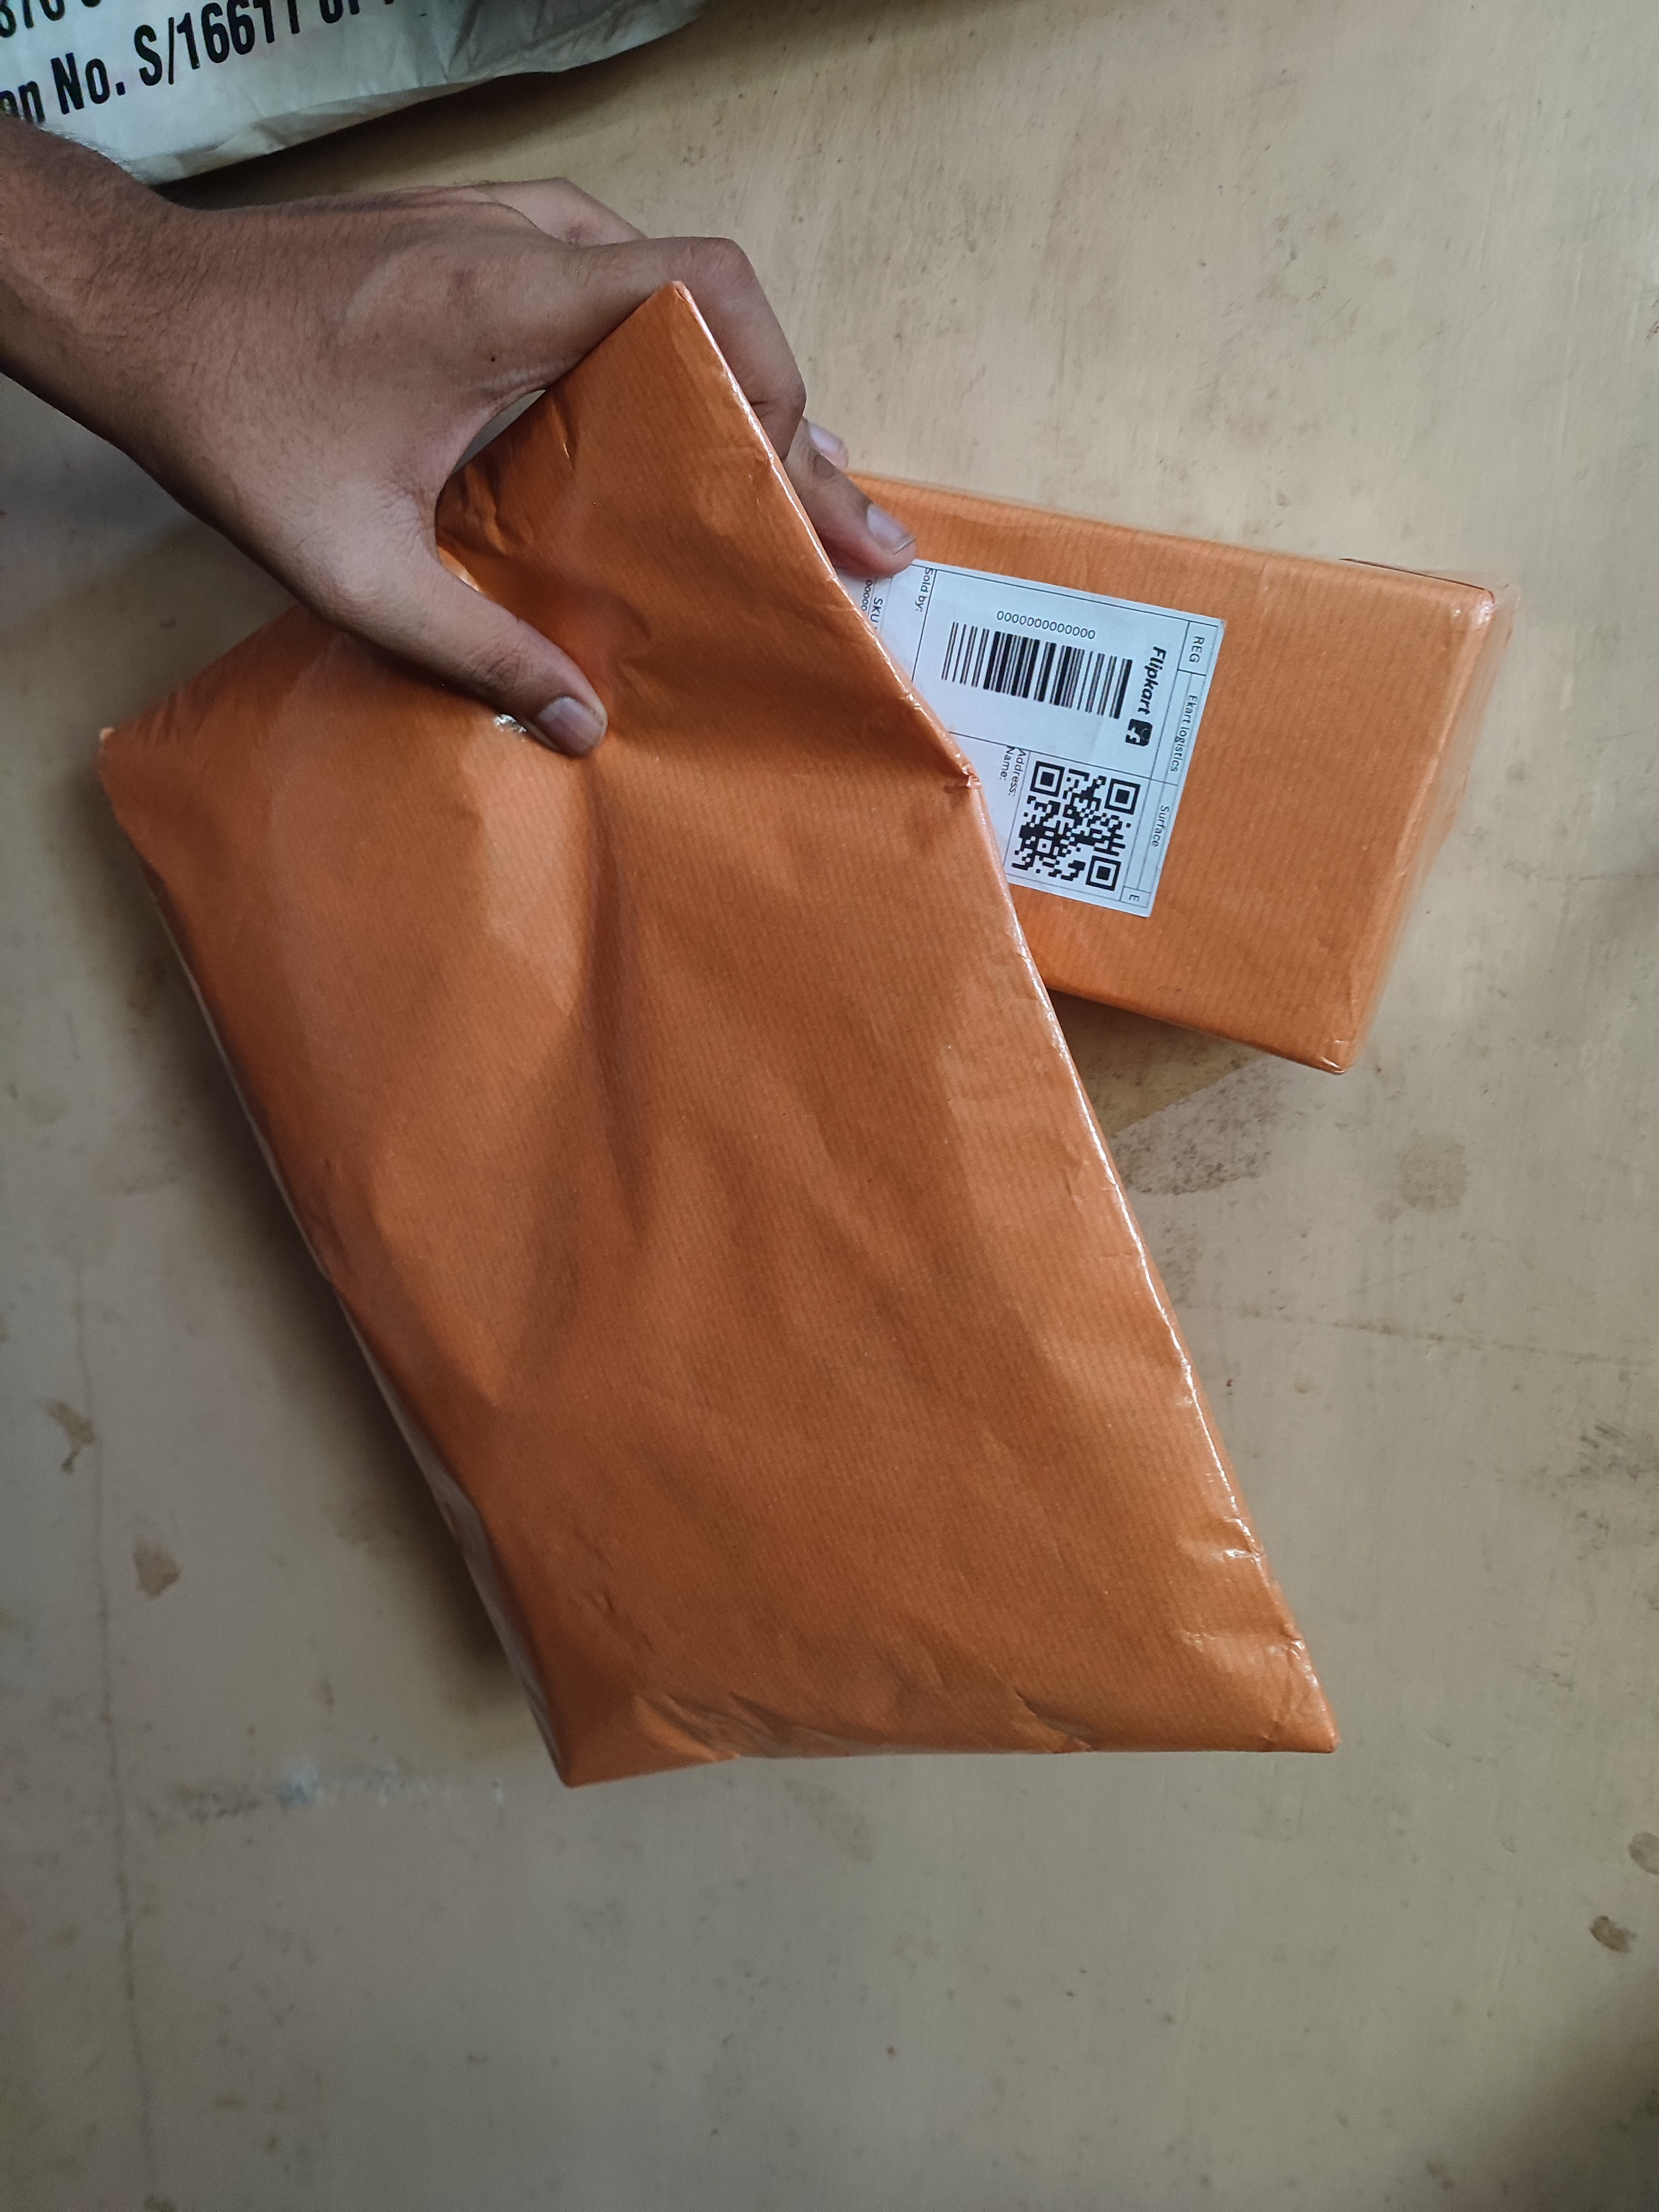Box: (89, 303, 1176, 1792), (648, 350, 1434, 1146)
